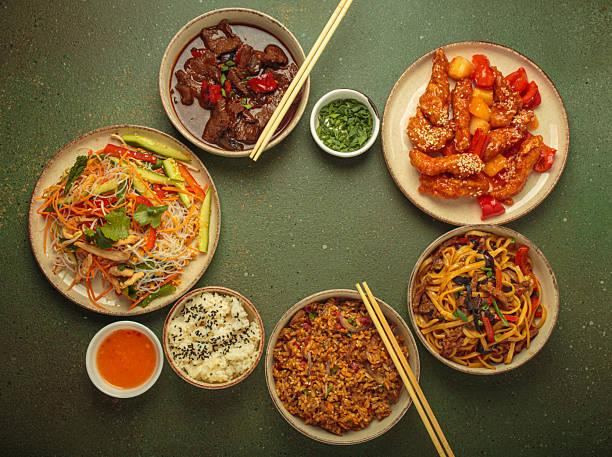Braised Crucian Carp: (29, 122, 220, 313), (379, 41, 566, 225), (264, 287, 419, 444), (158, 6, 309, 159), (407, 224, 559, 375)
